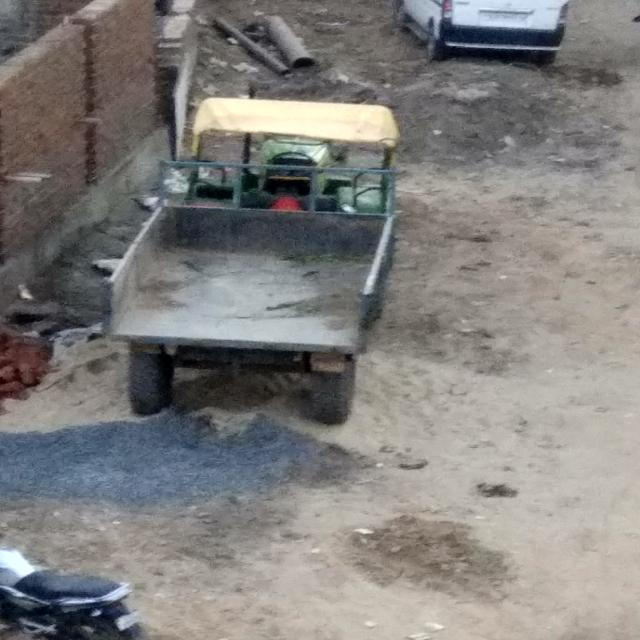Bike: (0, 520, 143, 640)
tempo: (394, 0, 584, 69)
tractor: (94, 97, 412, 424)
